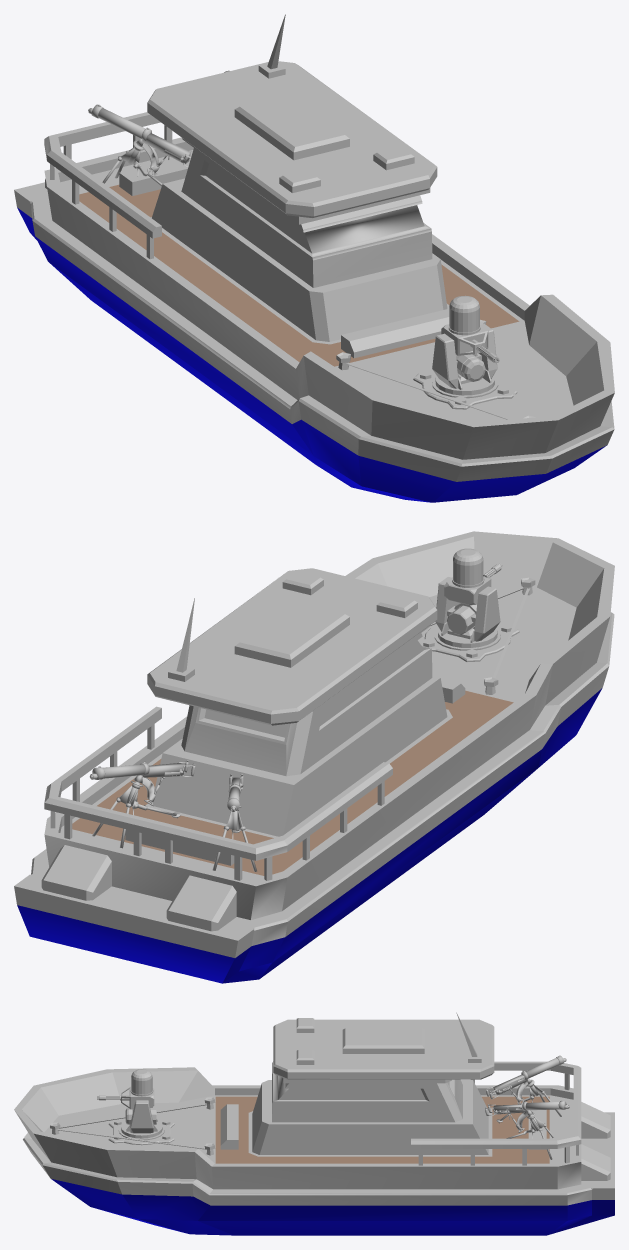
Rendered from small_classic2.fbx.
3 renders of one model, top to bottom at view 1: azimuth 30°, elevation 25°; view 2: azimuth 150°, elevation 25°; view 3: azimuth 270°, elevation 25°, orthographic. The views are drawn at different scales.
Parts seen in each view (by area): view 1: small_classic2; view 2: small_classic2; view 3: small_classic2.
Part boxes in pixels (bbox=[...]): small_classic2: bbox=[14, 14, 614, 502]; small_classic2: bbox=[14, 531, 614, 983]; small_classic2: bbox=[14, 1012, 614, 1235].
Size of the model in its own units: 542 by 596 by 1546.
